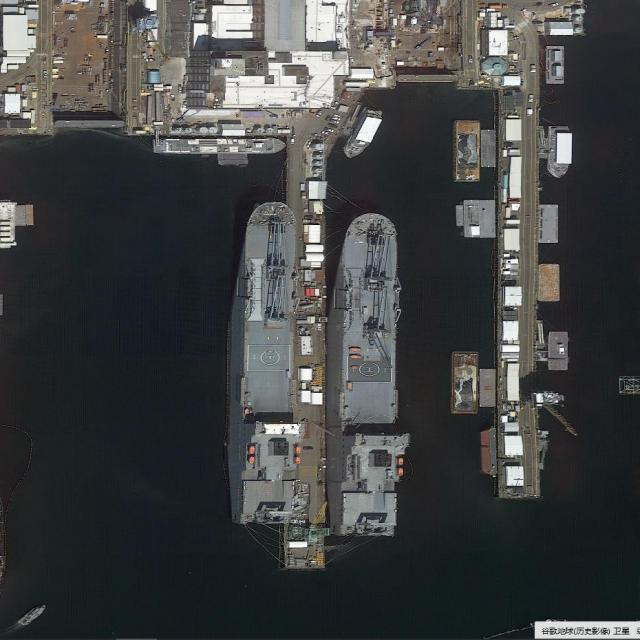Dock: (287, 138, 326, 568), (499, 92, 538, 499)
Other Warship: (341, 103, 385, 165), (548, 126, 574, 181), (18, 600, 48, 629)
RoRo: (325, 212, 412, 537), (226, 200, 302, 527)
